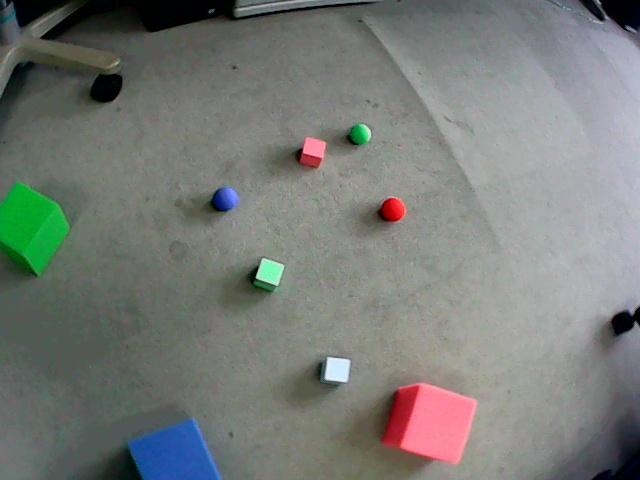blue_block: (128, 419, 220, 479), (320, 356, 350, 384)
red_block: (382, 384, 476, 463), (299, 137, 325, 167)
